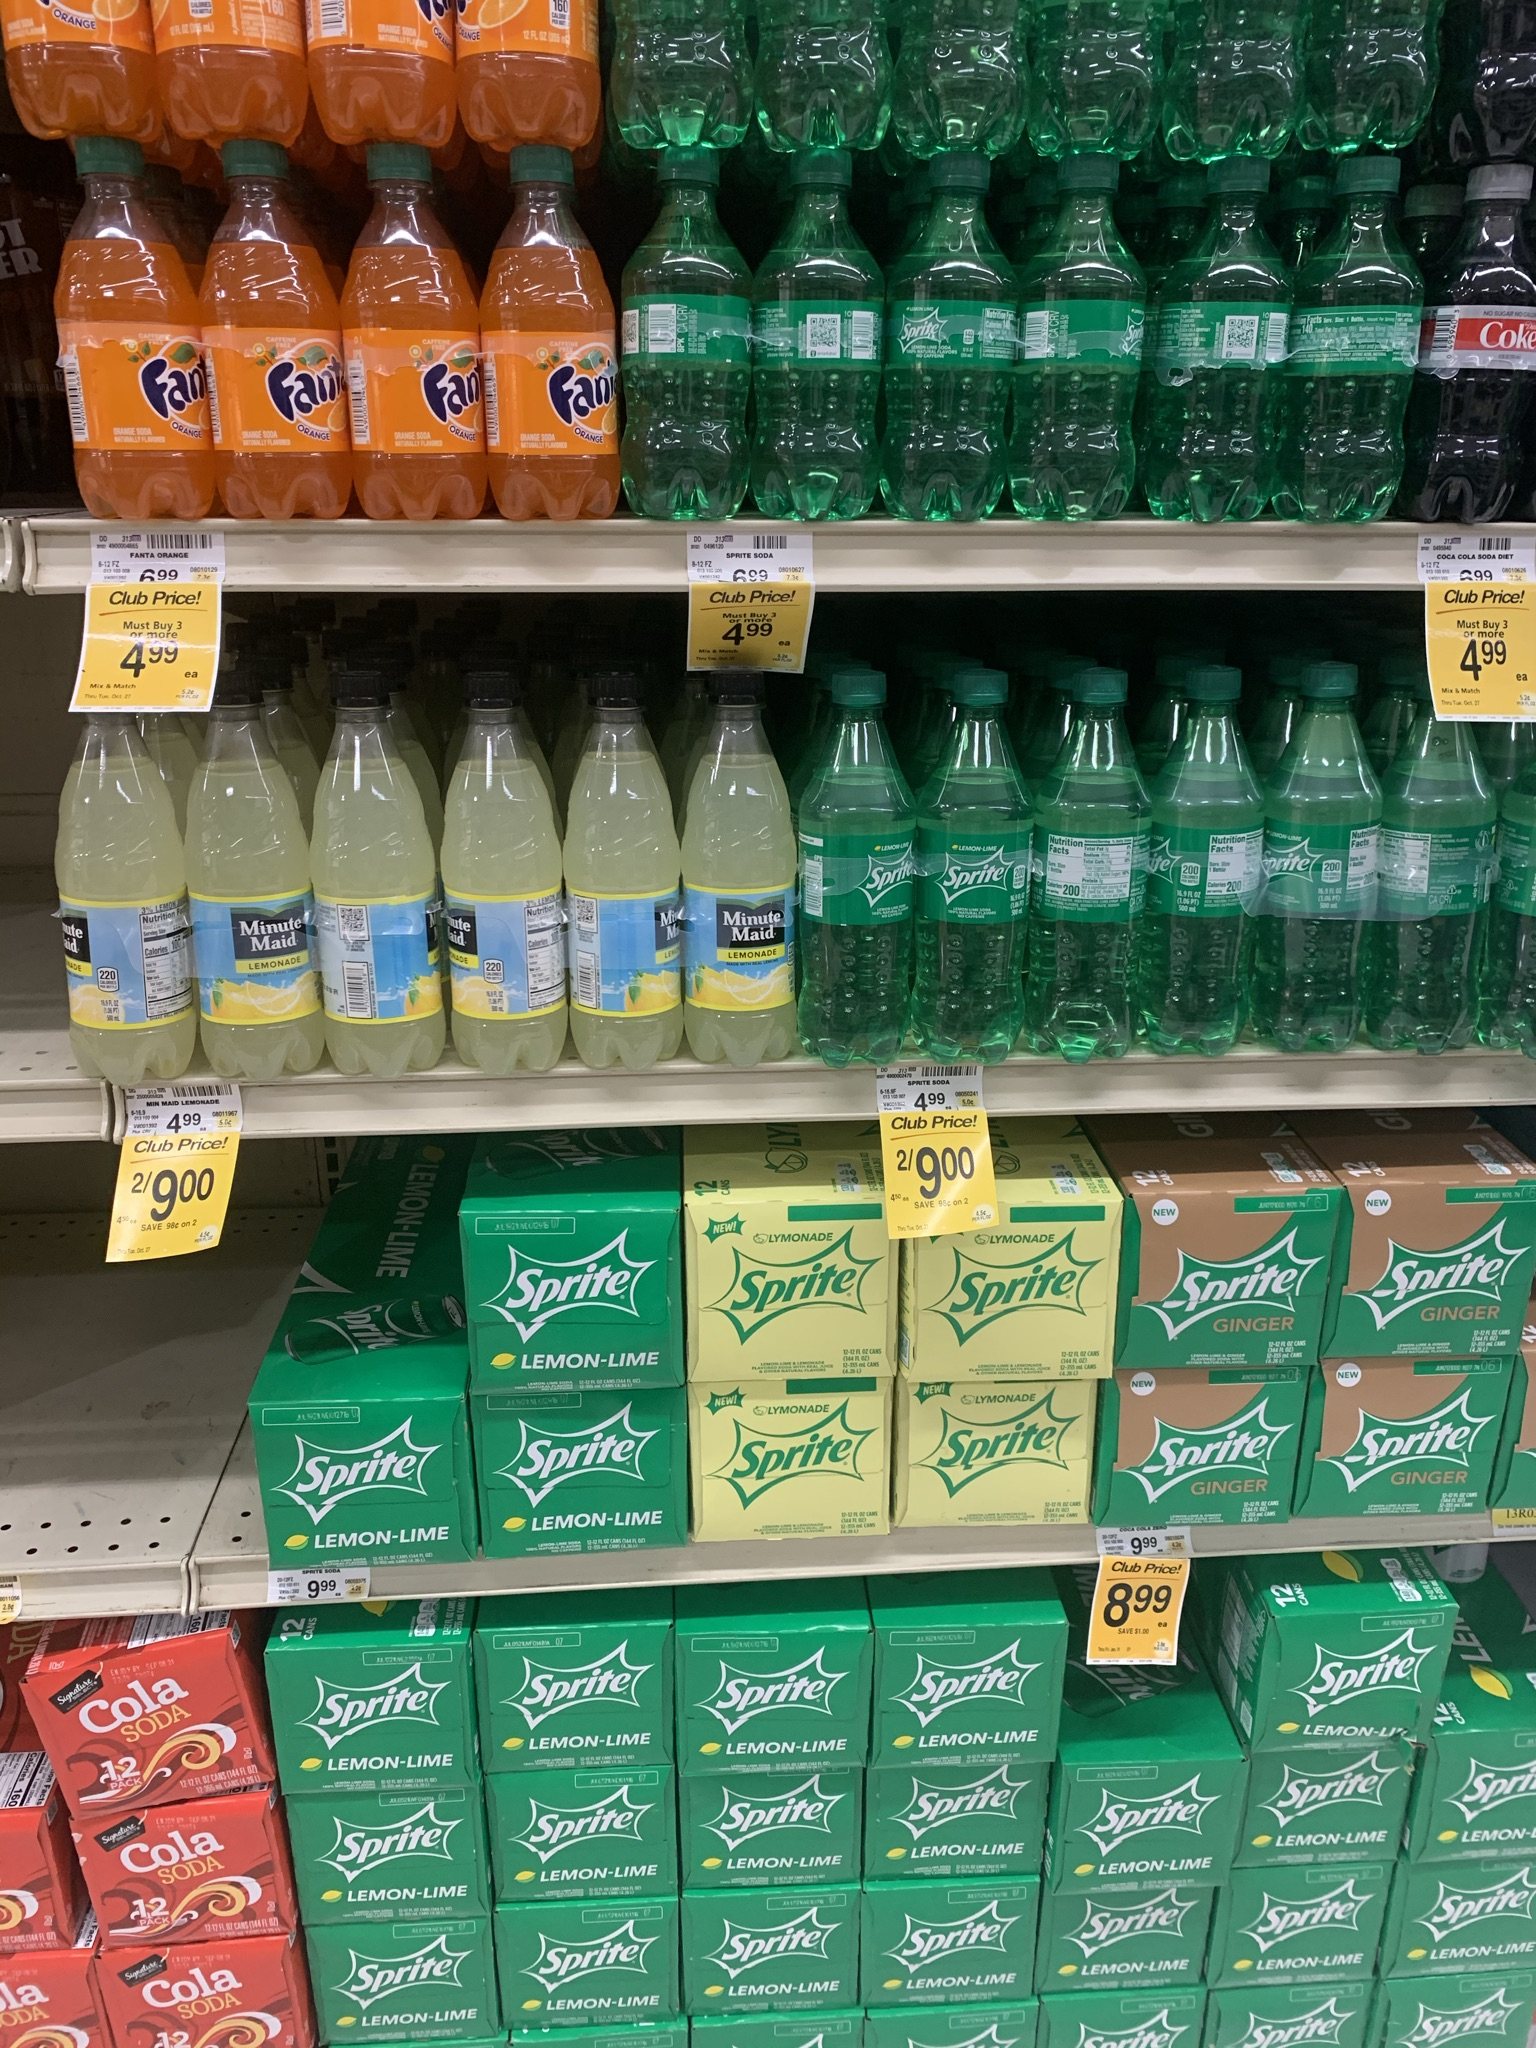box: (1321, 1171, 1534, 1364), (466, 1209, 674, 1387), (1118, 1187, 1312, 1374), (691, 1206, 899, 1374), (258, 1398, 471, 1561), (466, 1398, 686, 1550), (1307, 1361, 1499, 1530), (916, 1388, 1112, 1537), (673, 1640, 878, 1779), (916, 1240, 1118, 1376), (297, 1640, 482, 1787), (691, 1887, 871, 2030), (40, 1671, 260, 1788), (505, 1900, 694, 2033), (697, 1390, 876, 1530), (884, 1630, 1060, 1772), (484, 1642, 670, 1774), (481, 1775, 684, 1893), (318, 1922, 492, 2048), (298, 1804, 486, 1921), (1058, 1772, 1239, 1892), (1267, 1627, 1447, 1743), (879, 1885, 1054, 2001), (874, 1772, 1046, 1888), (686, 1785, 865, 1888), (1042, 1892, 1228, 1988), (90, 1832, 278, 1922), (1125, 1401, 1288, 1505), (1258, 1758, 1400, 1872), (1239, 1875, 1376, 1988), (115, 1966, 287, 2048)
